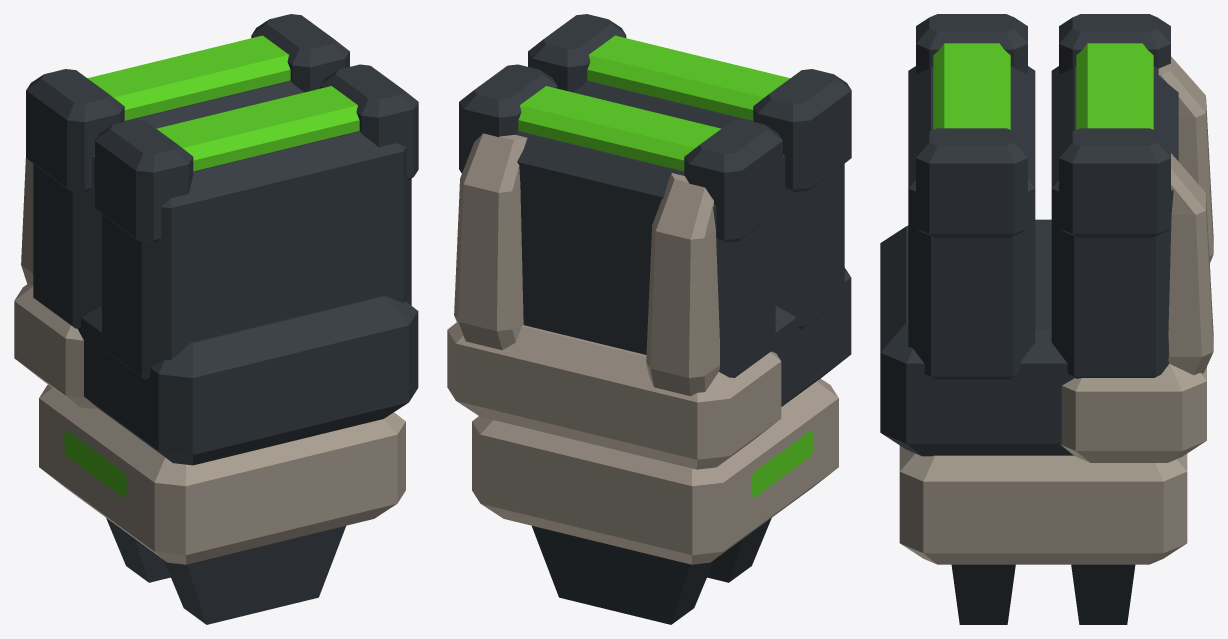
File: capacity.obj
3 renders of one model, left to right at view 1: azimuth 30°, elevation 25°; view 2: azimuth 150°, elevation 25°; view 3: azimuth 270°, elevation 25°, orthographic. The views are drawn at different scales.
Visible parts, largest first — view 1: capacity; view 2: capacity; view 3: capacity.
Part boxes in pixels (x1,y1,x2,y2): capacity: [14, 14, 418, 624]; capacity: [447, 14, 851, 624]; capacity: [880, 14, 1213, 624].
Size of the model in its own units: 0.63 by 1.06 by 0.619.
